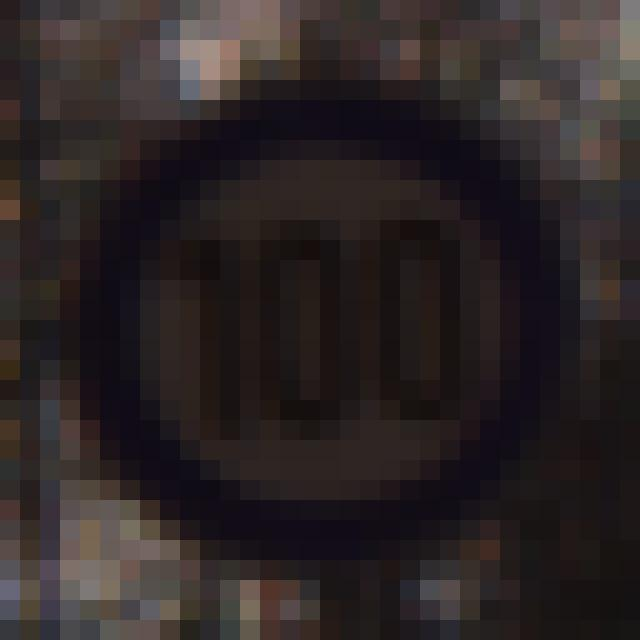SPEED LIMIT 100: (65, 85, 568, 540)
